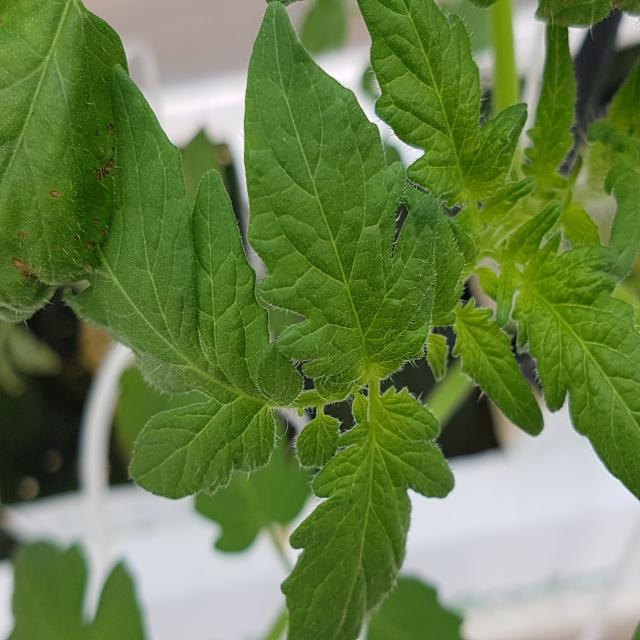Healthy Leaf: (246, 3, 433, 392), (285, 391, 458, 640), (358, 1, 527, 209), (518, 245, 640, 503), (132, 400, 279, 501), (452, 302, 545, 437)
